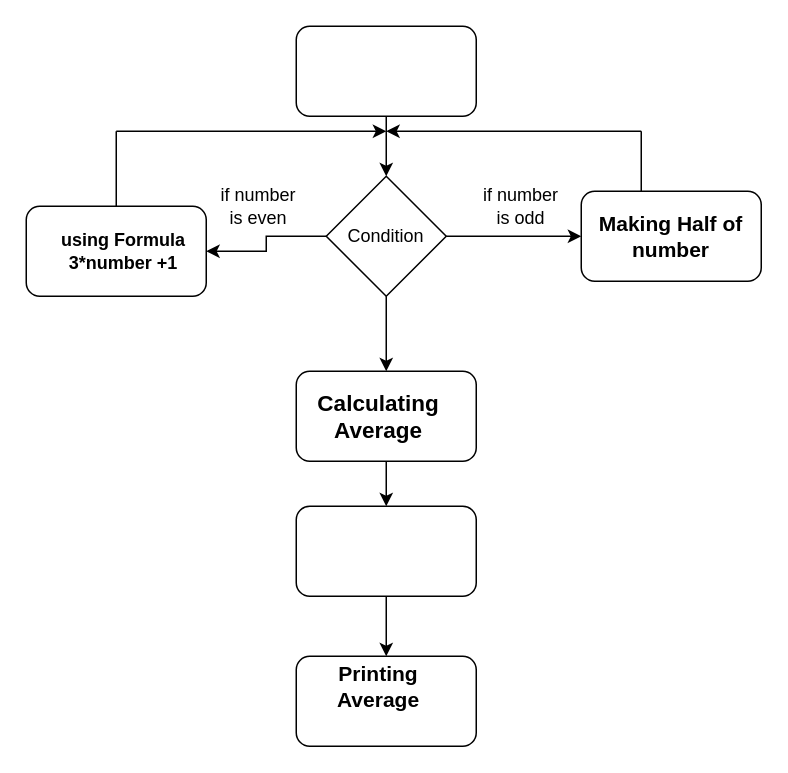
Some shapes in this 788 by 773 pixel diagram are drawn without their labels. Each missing label, with the centre of its shape:
"Enter Number" belongs at (x=385, y=70).
"Printing Number of iteration" belongs at (x=385, y=550).
